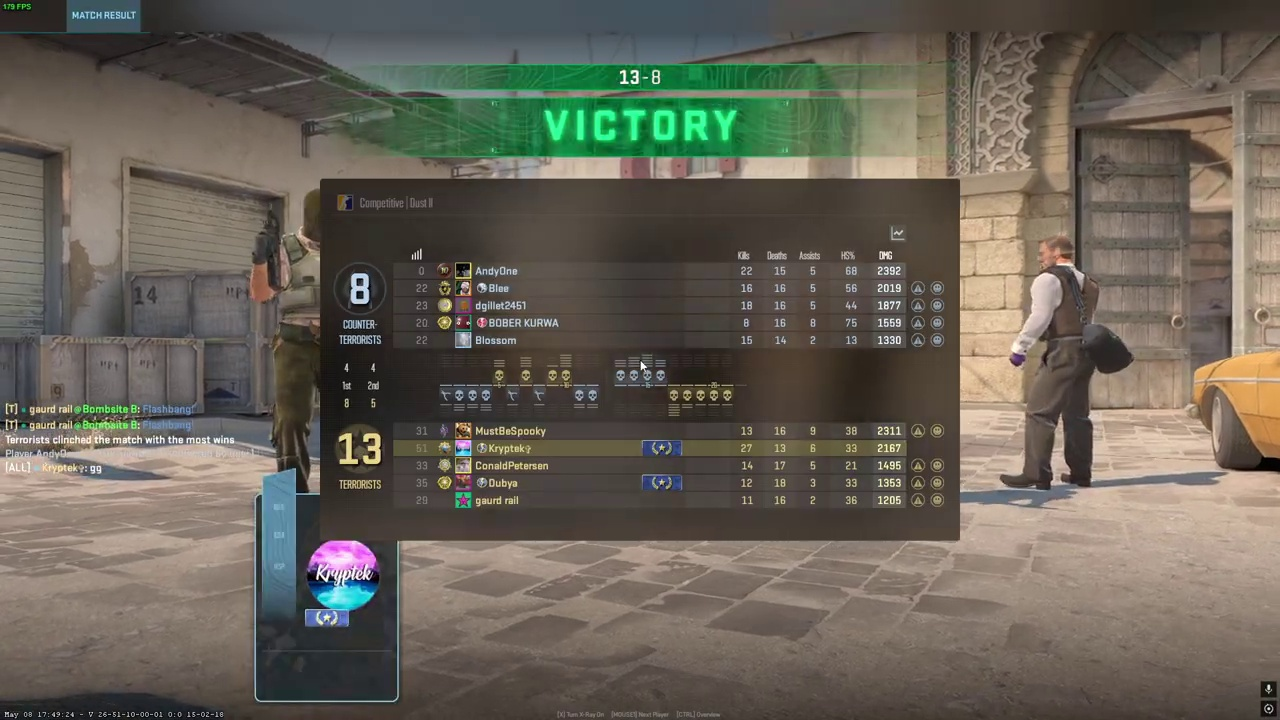Terrorist: (1006, 237, 1111, 493), (260, 190, 324, 491)
